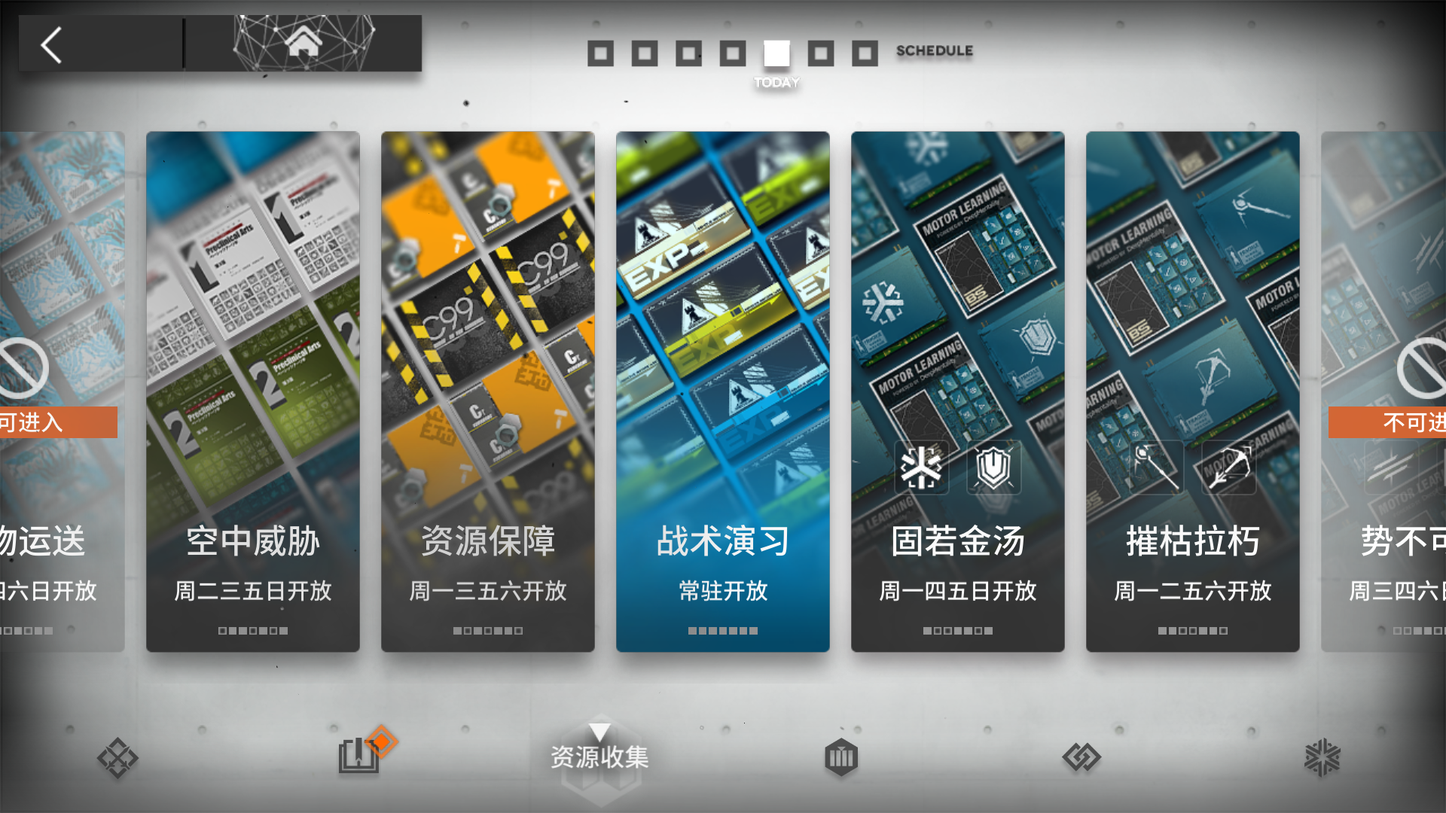Return_Button: (17, 14, 178, 69)
tactical_maneuver_button: (620, 139, 826, 649)
